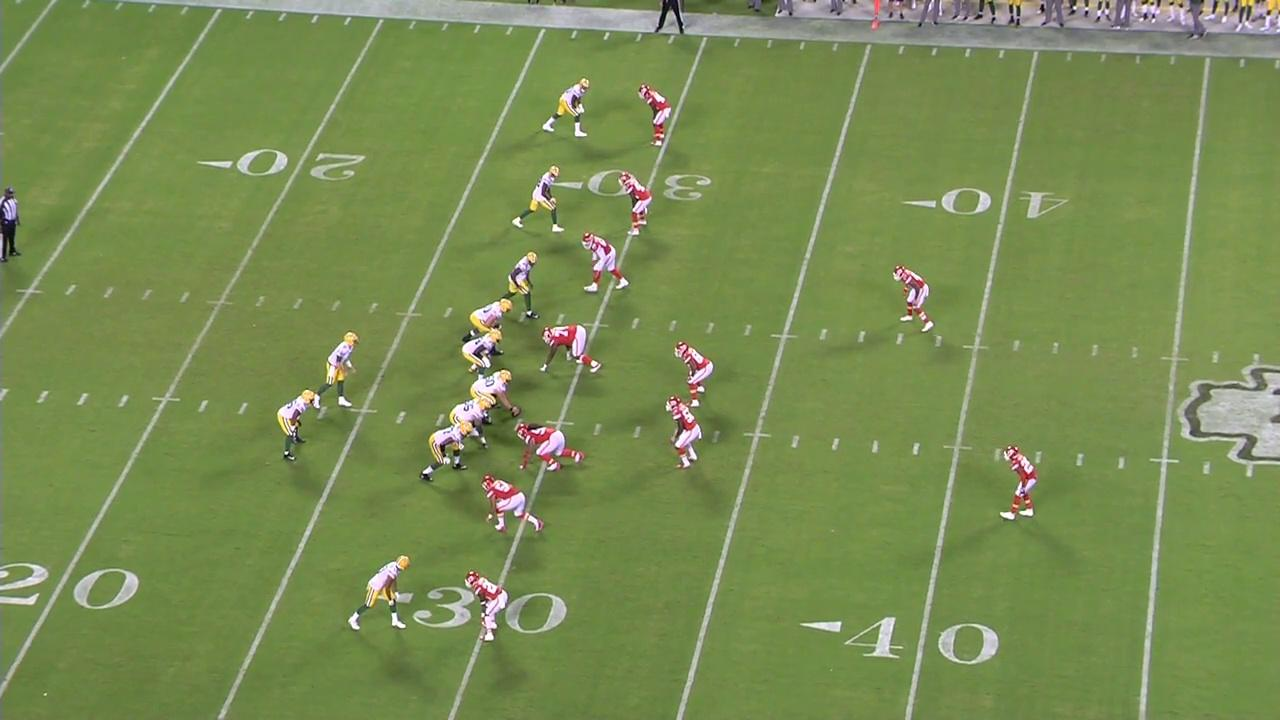player: (341, 553, 414, 634), (994, 439, 1045, 531), (479, 470, 546, 538), (510, 160, 566, 240), (514, 420, 588, 473), (418, 422, 476, 488), (537, 320, 604, 377), (580, 229, 635, 298), (467, 565, 512, 647), (494, 248, 545, 320), (542, 71, 595, 139), (313, 328, 358, 408), (891, 262, 937, 340), (660, 392, 706, 469), (276, 387, 315, 466), (463, 295, 513, 354), (467, 369, 529, 416), (676, 341, 714, 411), (637, 77, 671, 154), (616, 167, 651, 240), (449, 393, 492, 451), (461, 327, 504, 376)
ref: (0, 183, 25, 274)
